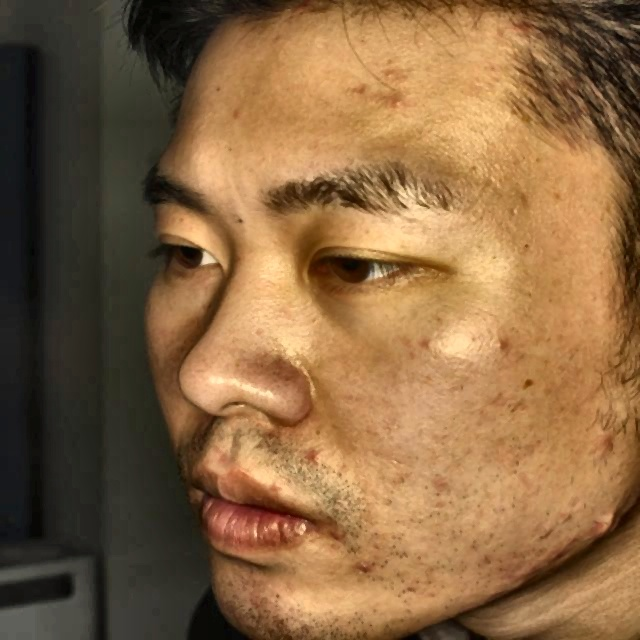pustule: (505, 556, 547, 590), (355, 547, 388, 584), (300, 446, 342, 471), (489, 327, 525, 356), (550, 526, 580, 557), (599, 425, 628, 452), (376, 88, 406, 113)
